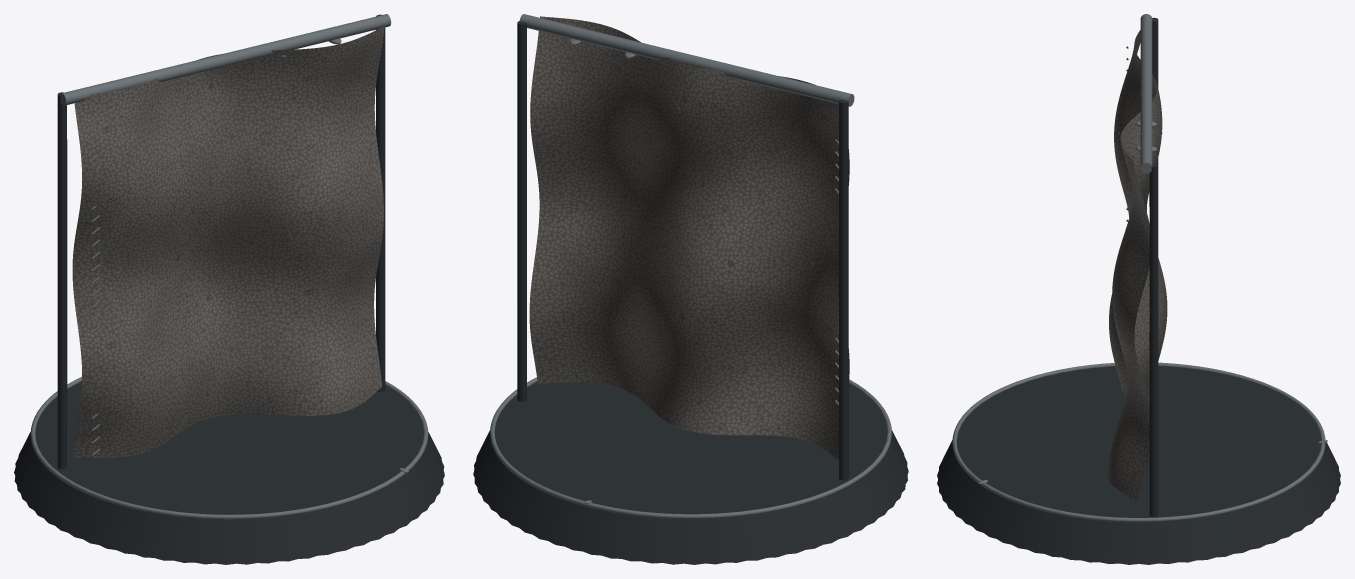
The picture shows the model from 3 angles, left to right: view 1: azimuth 30°, elevation 25°; view 2: azimuth 150°, elevation 25°; view 3: azimuth 270°, elevation 25°; orthographic projection. The views are drawn at different scales.
Parts seen in each view (by area): view 1: surface specimen, neutral specimen stand, specimen edge; view 2: surface specimen, neutral specimen stand, specimen edge; view 3: neutral specimen stand, surface specimen, specimen edge.
Part boxes in pixels (box(x1,y1,x2,y2)): surface specimen: box(72, 26, 384, 457); neutral specimen stand: box(14, 14, 444, 564); specimen edge: box(30, 14, 428, 519); surface specimen: box(529, 16, 849, 460); neutral specimen stand: box(473, 21, 908, 564); specimen edge: box(490, 14, 891, 518); neutral specimen stand: box(937, 17, 1340, 564); surface specimen: box(1107, 30, 1167, 501); specimen edge: box(952, 14, 1325, 522).
Size of the model in its own units: 0.539 by 0.576 by 0.539.
4 materials, 1 textured.
